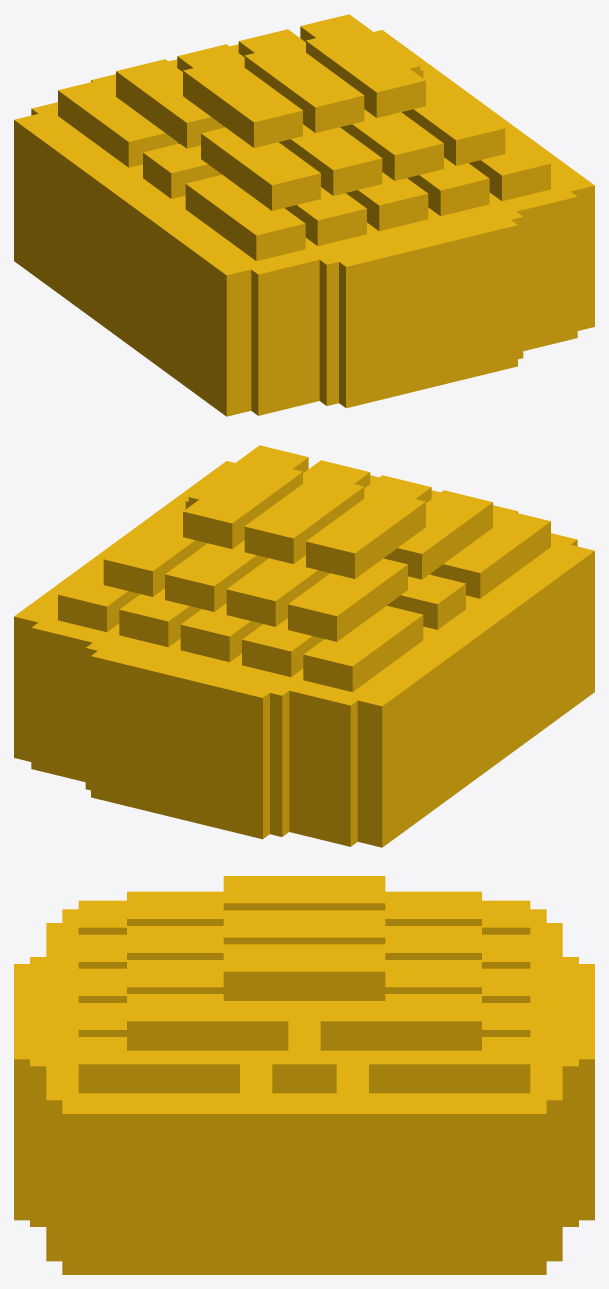
The model's file is gold level 2.obj.
The picture shows the model from 3 angles, top to bottom: view 1: azimuth 30°, elevation 25°; view 2: azimuth 150°, elevation 25°; view 3: azimuth 270°, elevation 25°; orthographic projection. The views are drawn at different scales.
Bounding box in the file's own units: 3 × 1.7 × 3.6.
1 material, 1 textured.
